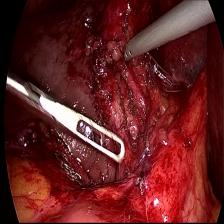Grasper: (18, 80, 128, 176)
Irrigator: (122, 32, 144, 66)
